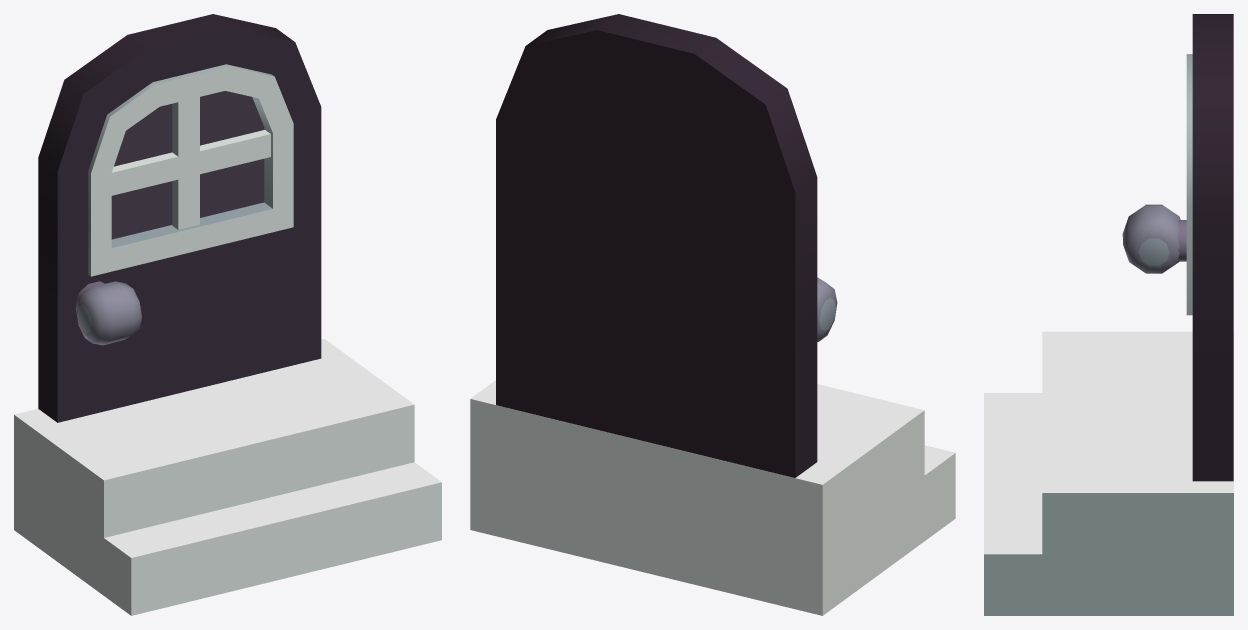
File: Door01_Black_White.glb
3 renders of one model, left to right at view 1: azimuth 30°, elevation 25°; view 2: azimuth 150°, elevation 25°; view 3: azimuth 270°, elevation 25°, orthographic. The views are drawn at different scales.
Visible parts, largest first — view 1: Door01_Black_White; view 2: Door01_Black_White; view 3: Door01_Black_White.
Part boxes in pixels (bbox=[...]): Door01_Black_White: bbox=[14, 14, 441, 615]; Door01_Black_White: bbox=[470, 14, 955, 615]; Door01_Black_White: bbox=[984, 14, 1233, 615].
Bounding box in the file's own units: 0.9795 × 1.41 × 0.6407.
Materials: 1 (1 with a texture image).
